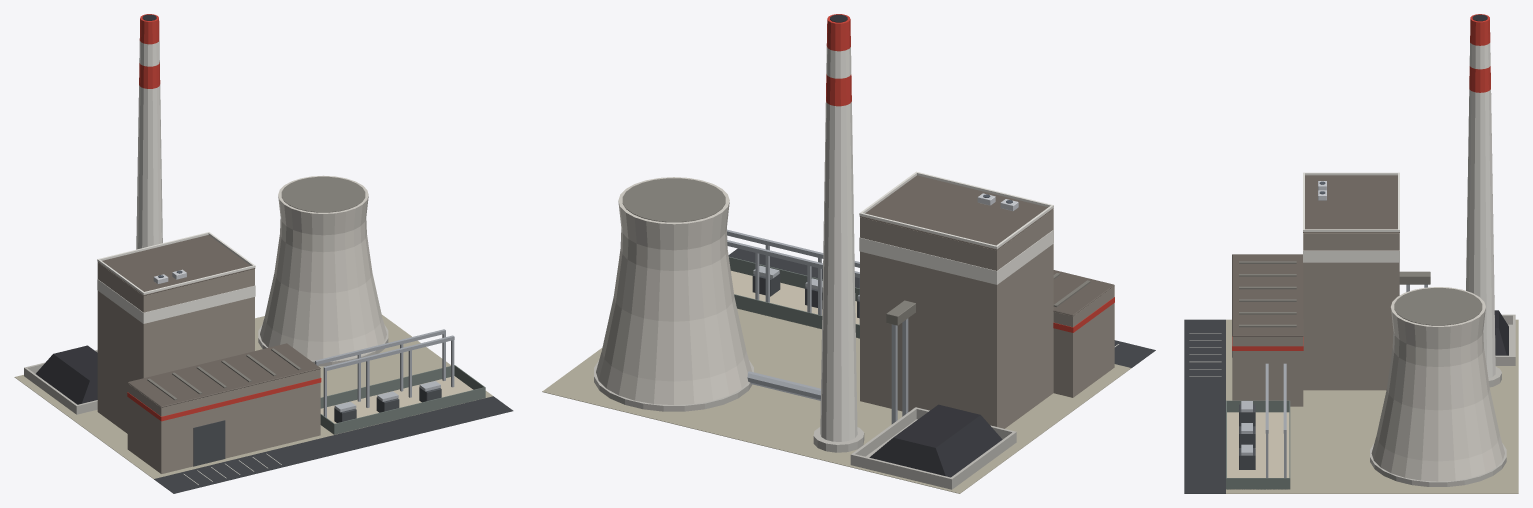
File: coalplant.glb
The picture shows the model from 3 angles, left to right: view 1: azimuth 30°, elevation 25°; view 2: azimuth 150°, elevation 25°; view 3: azimuth 270°, elevation 25°; orthographic projection. The views are drawn at different scales.
Visible parts, largest first — view 1: coalplant; view 2: coalplant; view 3: coalplant.
Boxes of the visible parts, left/top/right/bottom form: coalplant: left=14, top=14, right=513, bottom=493; coalplant: left=542, top=14, right=1155, bottom=493; coalplant: left=1184, top=14, right=1518, bottom=493.
Size of the model in its own units: 64 by 62.08 by 52.
